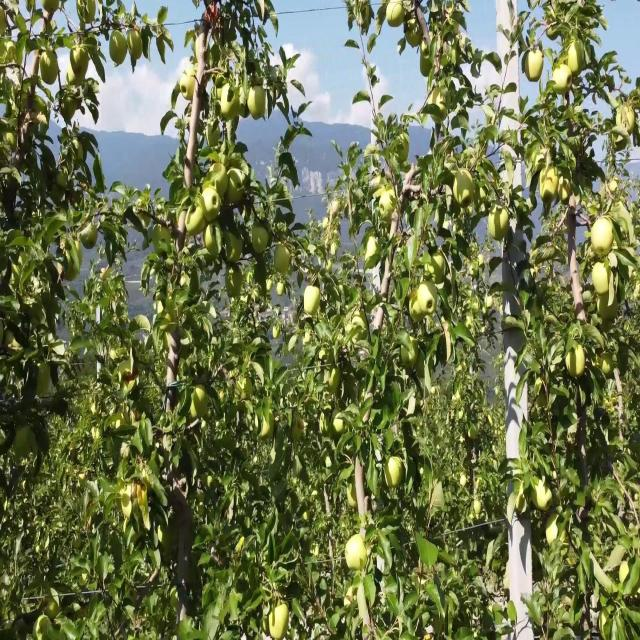apple: (488, 206, 512, 242), (592, 220, 613, 258), (348, 533, 368, 572), (596, 291, 620, 322), (248, 85, 268, 121), (524, 49, 544, 85), (40, 49, 60, 85), (268, 604, 289, 638), (388, 455, 407, 491), (228, 170, 246, 206), (456, 170, 474, 206), (540, 170, 559, 204), (204, 184, 221, 222), (568, 42, 585, 78), (552, 63, 570, 96), (568, 348, 587, 379), (420, 284, 439, 315), (16, 426, 35, 457), (212, 163, 228, 199), (240, 85, 256, 121), (188, 206, 207, 236), (204, 227, 221, 260), (592, 263, 611, 292), (428, 255, 447, 284), (128, 28, 144, 62), (432, 92, 449, 124), (36, 362, 52, 396), (380, 191, 397, 222), (220, 92, 238, 121), (612, 127, 630, 155), (112, 35, 128, 66), (192, 391, 209, 420), (404, 341, 419, 372), (228, 234, 244, 263), (304, 291, 320, 320), (228, 270, 244, 299), (352, 312, 368, 341), (260, 412, 276, 441), (536, 483, 552, 512), (252, 227, 269, 254), (276, 248, 292, 276), (408, 21, 423, 50), (368, 234, 380, 270), (236, 92, 250, 121), (132, 483, 148, 508), (560, 177, 573, 206), (624, 106, 636, 135), (388, 7, 404, 28), (412, 298, 424, 324), (513, 490, 526, 514), (444, 163, 457, 187), (420, 56, 434, 78), (124, 369, 140, 388), (204, 7, 219, 27), (328, 369, 341, 391), (184, 78, 196, 101), (348, 483, 358, 510), (548, 21, 560, 43), (64, 99, 76, 121), (228, 99, 239, 121), (416, 355, 426, 379), (205, 248, 219, 265), (452, 191, 461, 217), (604, 355, 614, 377), (336, 412, 345, 436), (216, 71, 226, 92), (608, 177, 620, 194), (48, 604, 60, 619), (60, 170, 68, 190), (276, 284, 286, 299), (88, 7, 97, 23), (472, 298, 480, 315), (272, 327, 281, 341), (488, 298, 496, 311)
